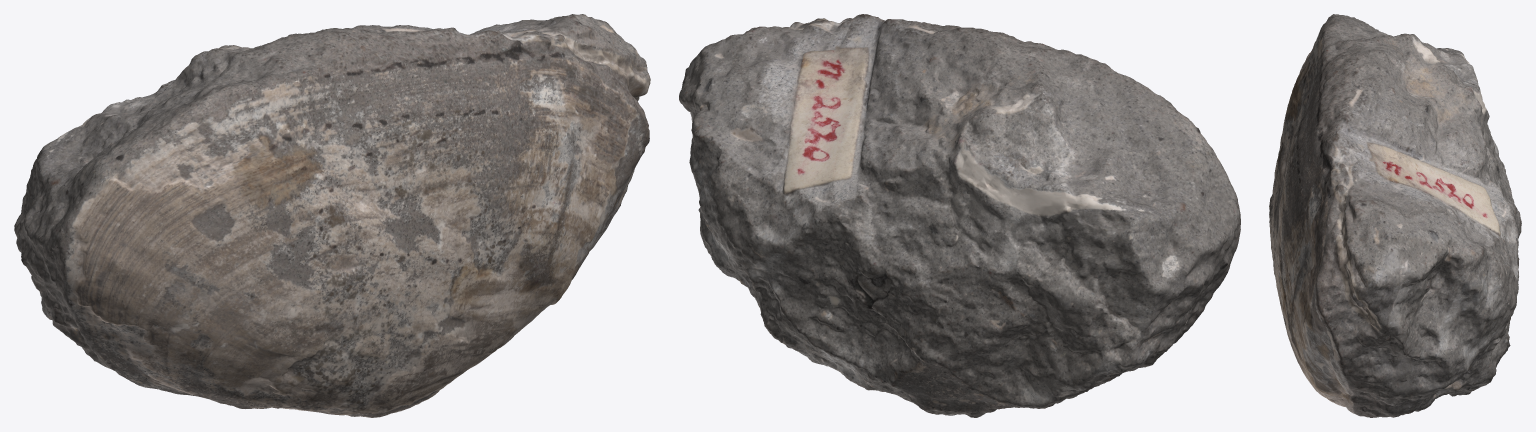
File: EWS0011053.glb
3 views of the same model, side by side, from view 1: azimuth 30°, elevation 25°; view 2: azimuth 150°, elevation 25°; view 3: azimuth 270°, elevation 25° (orthographic). The views are drawn at different scales.
Visible parts, largest first — view 1: input; view 2: input; view 3: input.
Boxes of the visible parts, box(x1,y1,x2,y2) form: input: box(14, 14, 650, 417); input: box(679, 14, 1240, 417); input: box(1269, 14, 1521, 417).
Bounding box in the file's own units: 0.0589 × 0.0364 × 0.0257.
1 material, 1 textured.
